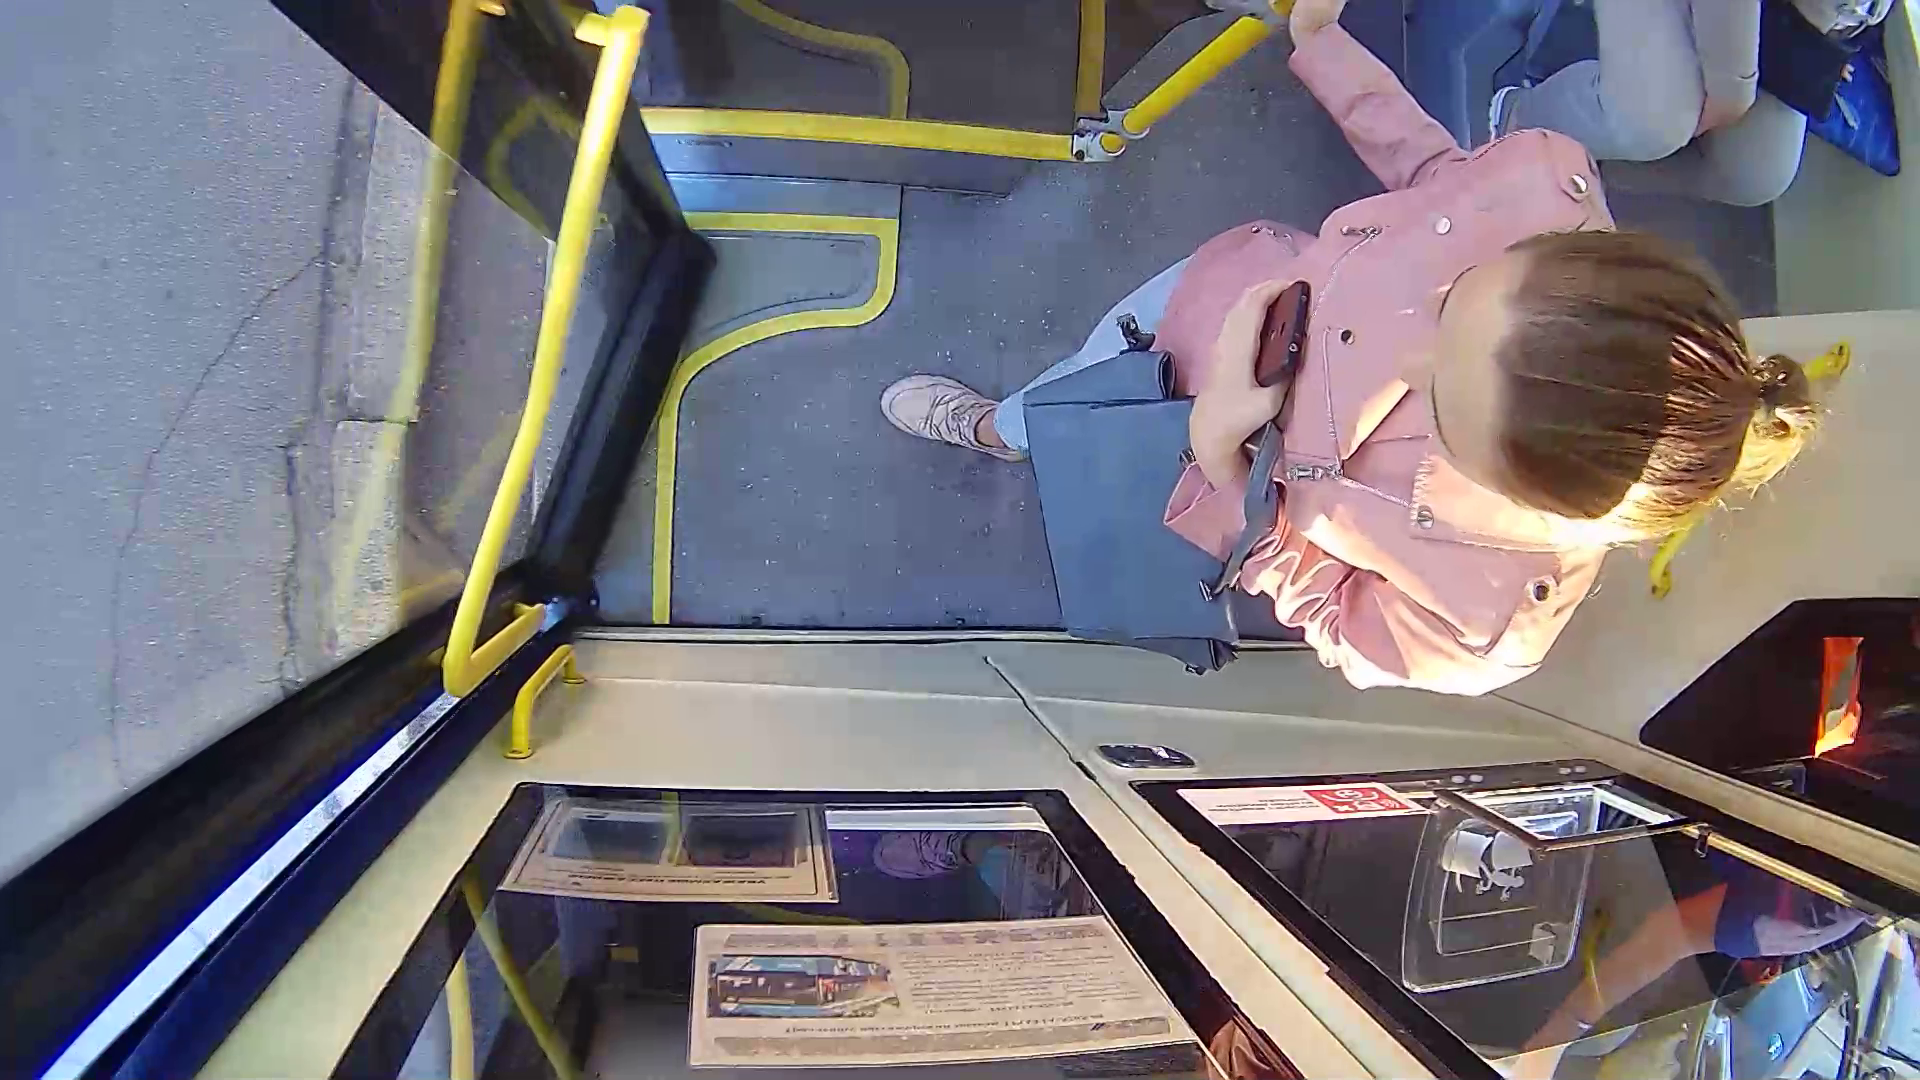person: (1037, 27, 1793, 685)
